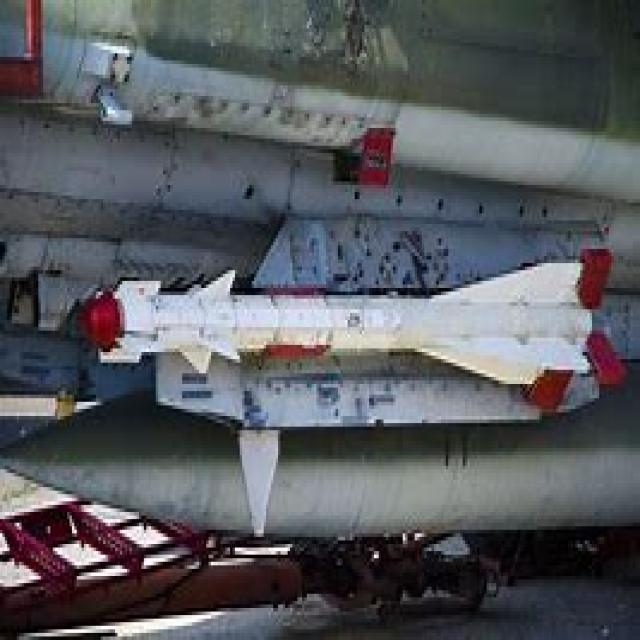missile: (0, 390, 640, 568), (73, 249, 640, 408)
